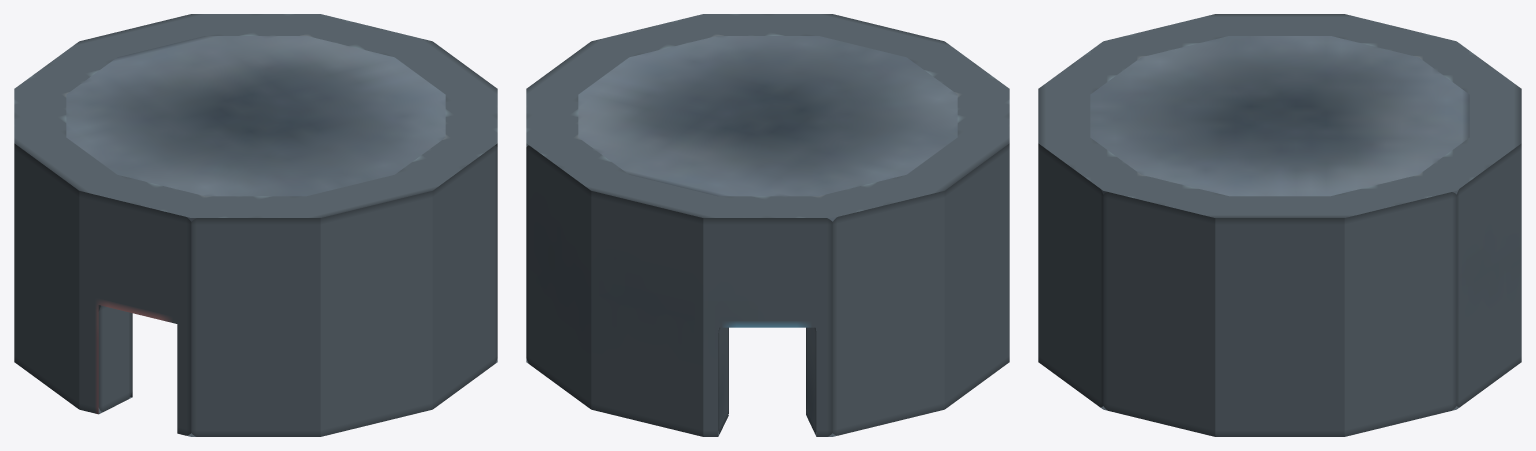
File: Cyllinder.fbx
The picture shows the model from 3 angles, left to right: view 1: azimuth 30°, elevation 25°; view 2: azimuth 150°, elevation 25°; view 3: azimuth 270°, elevation 25°; orthographic projection.
Visible parts, largest first — view 1: tube; view 2: tube; view 3: tube.
Boxes of the visible parts, bbox=[...] form: tube: bbox=[14, 14, 497, 436]; tube: bbox=[526, 14, 1009, 436]; tube: bbox=[1038, 14, 1521, 436].
Size of the model in its own units: 1.56 by 0.7812 by 1.56.
